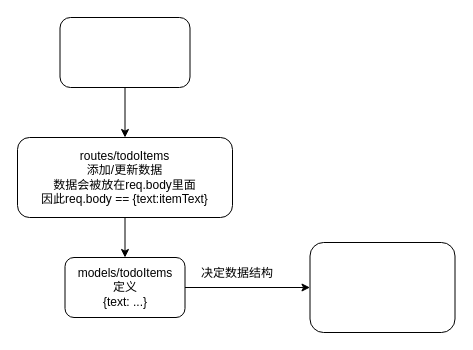
Some shapes in this 473 by 350 pixel diagram are drawn without their labels. The centre of each missing label's shape, as x and y in pixels:
"Mongo DB的数据样子 { _id: ... text: ... __V: ... }" goes at (382,287).
"前端的输入 必须要保证有text字段 如：{text: itemText}" goes at (124,52).
